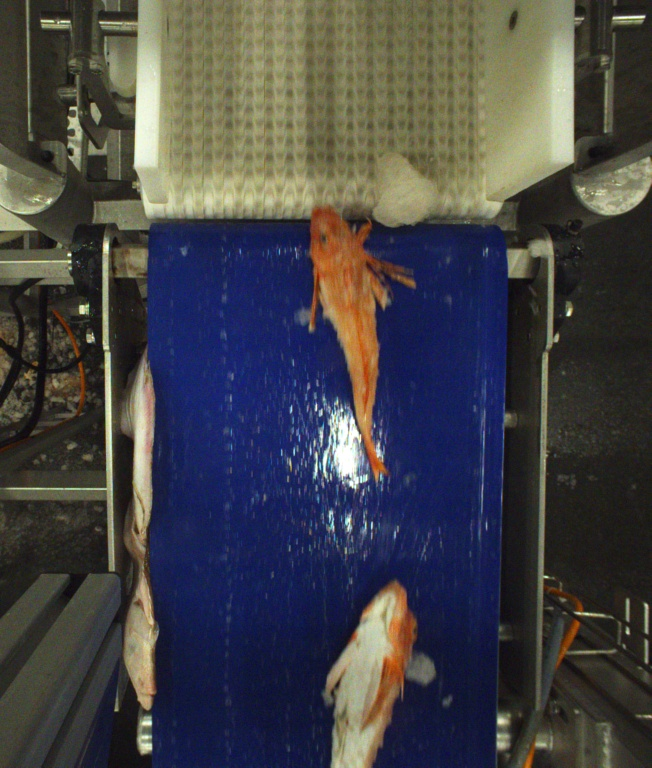GUU: (305, 203, 415, 486)
